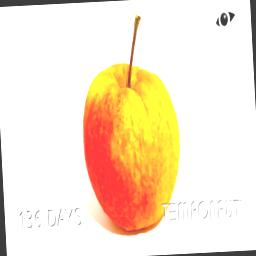Apple Unripe: (75, 0, 186, 237)
